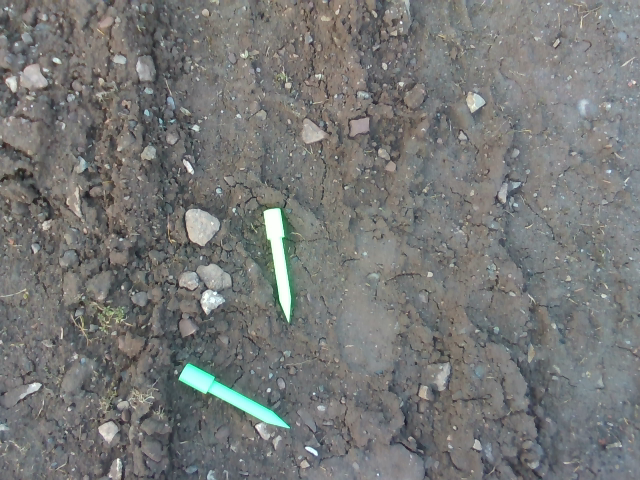Probe: (174, 358, 293, 435), (258, 205, 301, 327)
